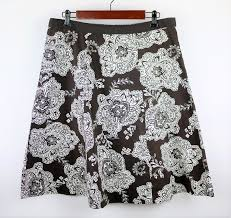C_skirt: (14, 15, 220, 212)
